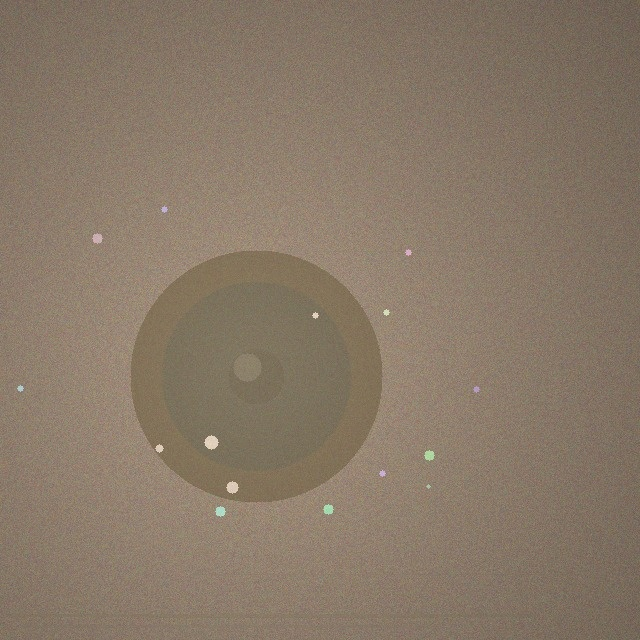overburn: (130, 250, 382, 502)
